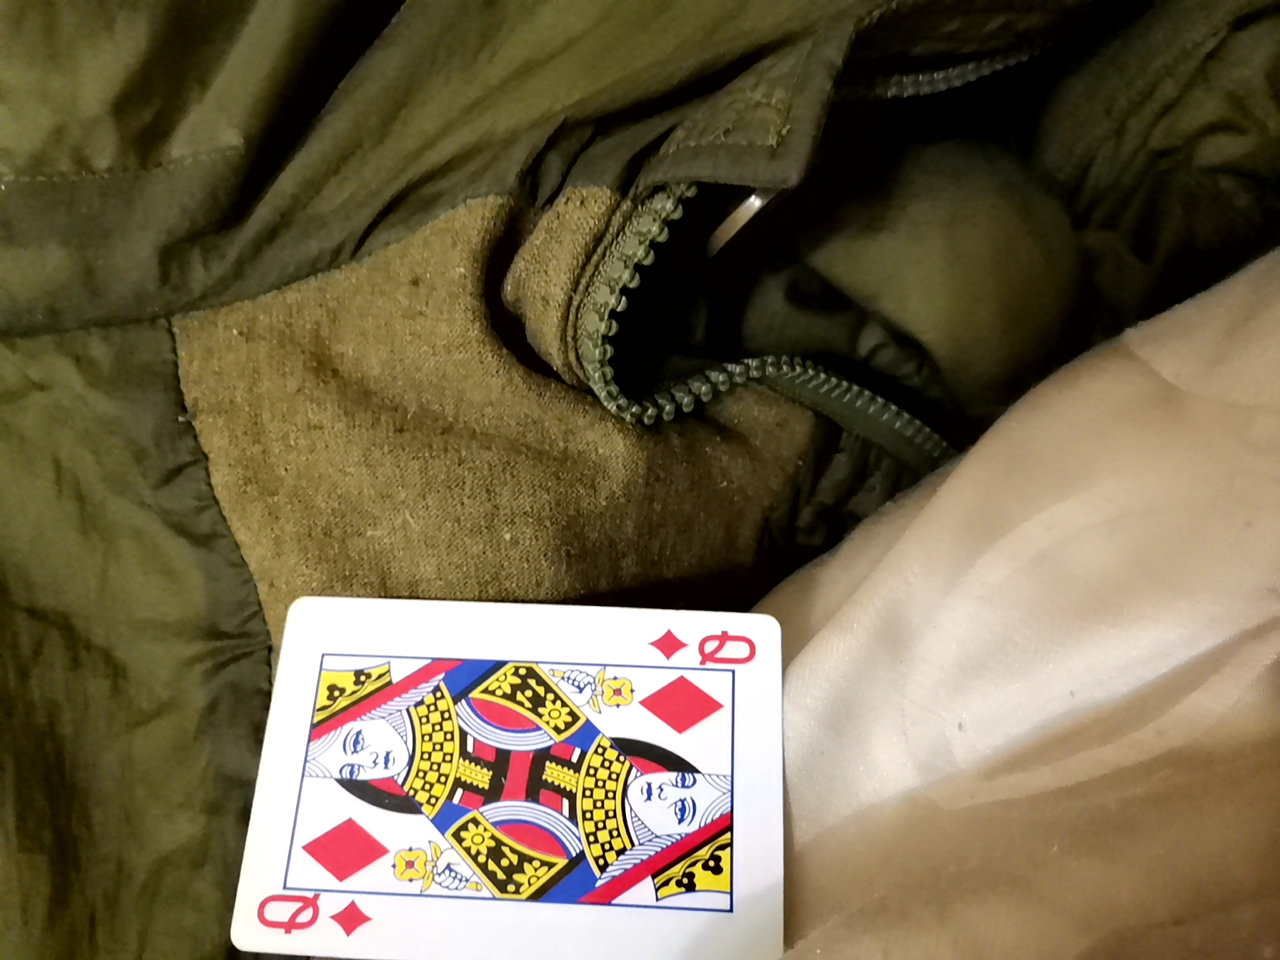fk q: (245, 564, 788, 958)
